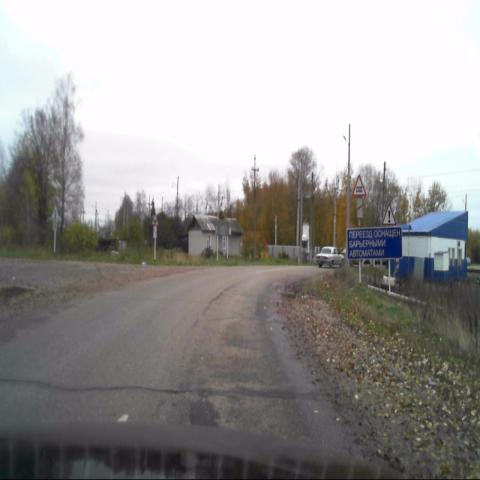1_33: (382, 204, 396, 225)
